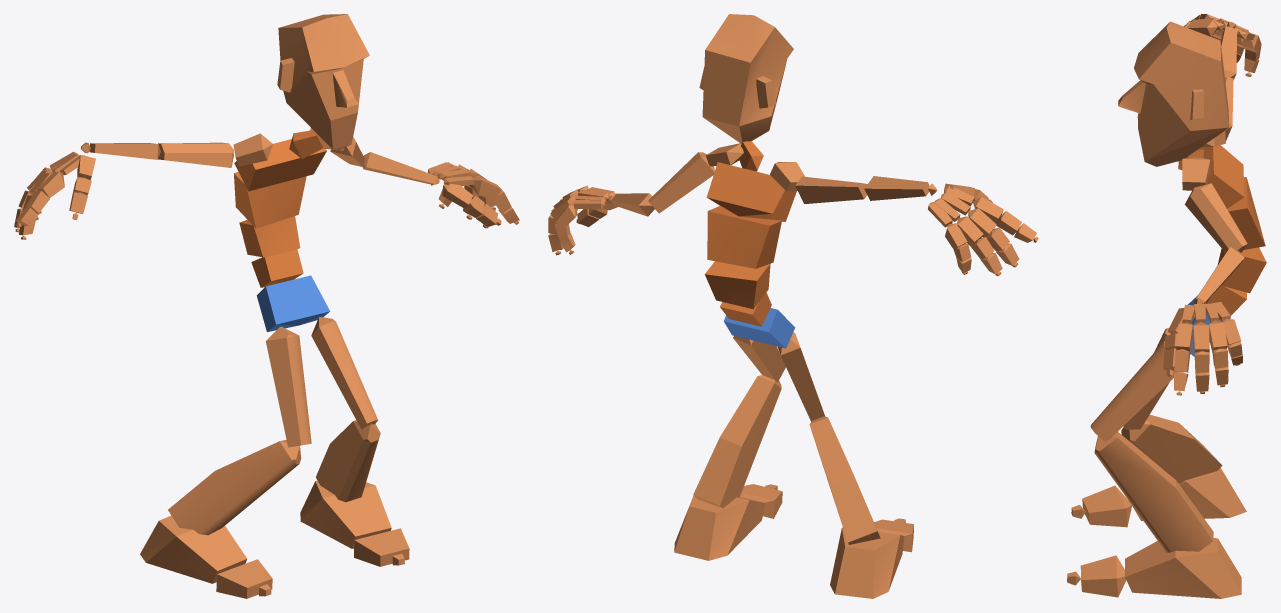
File: personaje321.obj
3 views of the same model, side by side, from view 1: azimuth 30°, elevation 25°; view 2: azimuth 150°, elevation 25°; view 3: azimuth 270°, elevation 25° (orthographic). The views are drawn at different scales.
Visible parts, largest first — view 1: BOPED_Head, BOPED_R_leg, BOPED_R_foot, BOPED_R_foot01, BOPED_R_legup, BOPED_L_leg, BOPED_L_legup, Bone01, Bone04, Bone05, Bone03, BOPED_R_arm_upper (+7 smaller); view 2: BOPED_Head, BOPED_L_leg, BOPED_R_foot01, BOPED_R_foot, Bone04, BOPED_R_leg, Bone05, Bone03, BOPED_L_arm_upper, BOPED_R_legup, Bone01, BOPED_R_arm_upper (+7 smaller); view 3: BOPED_Head, BOPED_L_leg, BOPED_R_foot01, BOPED_R_leg, BOPED_L_legup, BOPED_L_arm_upper, BOPED_R_foot, Bone05, BOPED_R_foot_toe01, BOPED_R_foot_toe04, Bone04, Bone03 (+14 smaller).
Boxes of the visible parts, <box> form: BOPED_Head: <box>277,14,369,150</box>; BOPED_R_leg: <box>168,440,301,535</box>; BOPED_R_foot: <box>140,515,247,583</box>; BOPED_R_foot01: <box>300,480,391,548</box>; BOPED_R_legup: <box>265,326,311,447</box>; BOPED_L_leg: <box>316,420,380,502</box>; BOPED_L_legup: <box>311,317,378,429</box>; Bone01: <box>256,275,330,331</box>; Bone04: <box>234,172,306,228</box>; Bone05: <box>234,139,326,191</box>; Bone03: <box>239,216,300,257</box>; BOPED_R_arm_upper: <box>158,142,233,167</box>; BOPED_Head: <box>699,14,793,143</box>; BOPED_L_leg: <box>693,375,781,508</box>; BOPED_R_foot01: <box>674,495,765,560</box>; BOPED_R_foot: <box>830,527,904,598</box>; Bone04: <box>707,206,781,268</box>; BOPED_R_leg: <box>809,416,880,544</box>; Bone05: <box>706,162,796,221</box>; Bone03: <box>704,261,770,309</box>; BOPED_L_arm_upper: <box>648,152,714,213</box>; BOPED_R_legup: <box>777,332,825,421</box>; Bone01: <box>723,308,795,348</box>; BOPED_R_arm_upper: <box>795,176,867,203</box>; BOPED_Head: <box>1118,21,1229,166</box>; BOPED_L_leg: <box>1094,432,1213,552</box>; BOPED_R_foot01: <box>1125,537,1241,598</box>; BOPED_R_leg: <box>1121,414,1222,483</box>; BOPED_L_legup: <box>1090,341,1178,442</box>; BOPED_L_arm_upper: <box>1185,183,1247,252</box>; BOPED_R_foot: <box>1132,468,1246,520</box>; Bone05: <box>1198,145,1244,208</box>; BOPED_R_foot_toe01: <box>1082,485,1131,527</box>; BOPED_R_foot_toe04: <box>1080,555,1126,597</box>; Bone04: <box>1224,177,1265,253</box>; Bone03: <box>1217,247,1266,293</box>.
Bounding box in the file's own units: 168 × 170 × 56.5.
